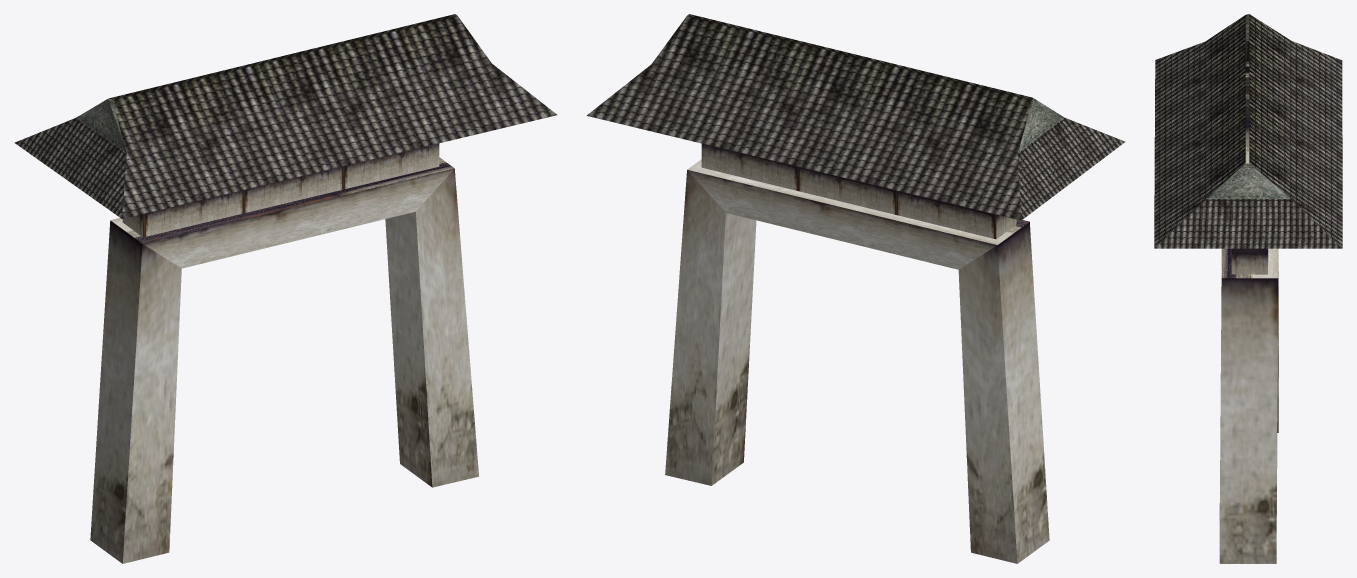
Rendered from ian1636.obj.
3 views of the same model, side by side, from view 1: azimuth 30°, elevation 25°; view 2: azimuth 150°, elevation 25°; view 3: azimuth 270°, elevation 25° (orthographic). The views are drawn at different scales.
Parts seen in each view (by area): view 1: ian1636; view 2: ian1636; view 3: ian1636.
Part boxes in pixels (<box>): ian1636: <box>14,14,556,563</box>; ian1636: <box>586,14,1125,563</box>; ian1636: <box>1154,14,1342,563</box>.
Size of the model in its own units: 140 by 139 by 59.52.
